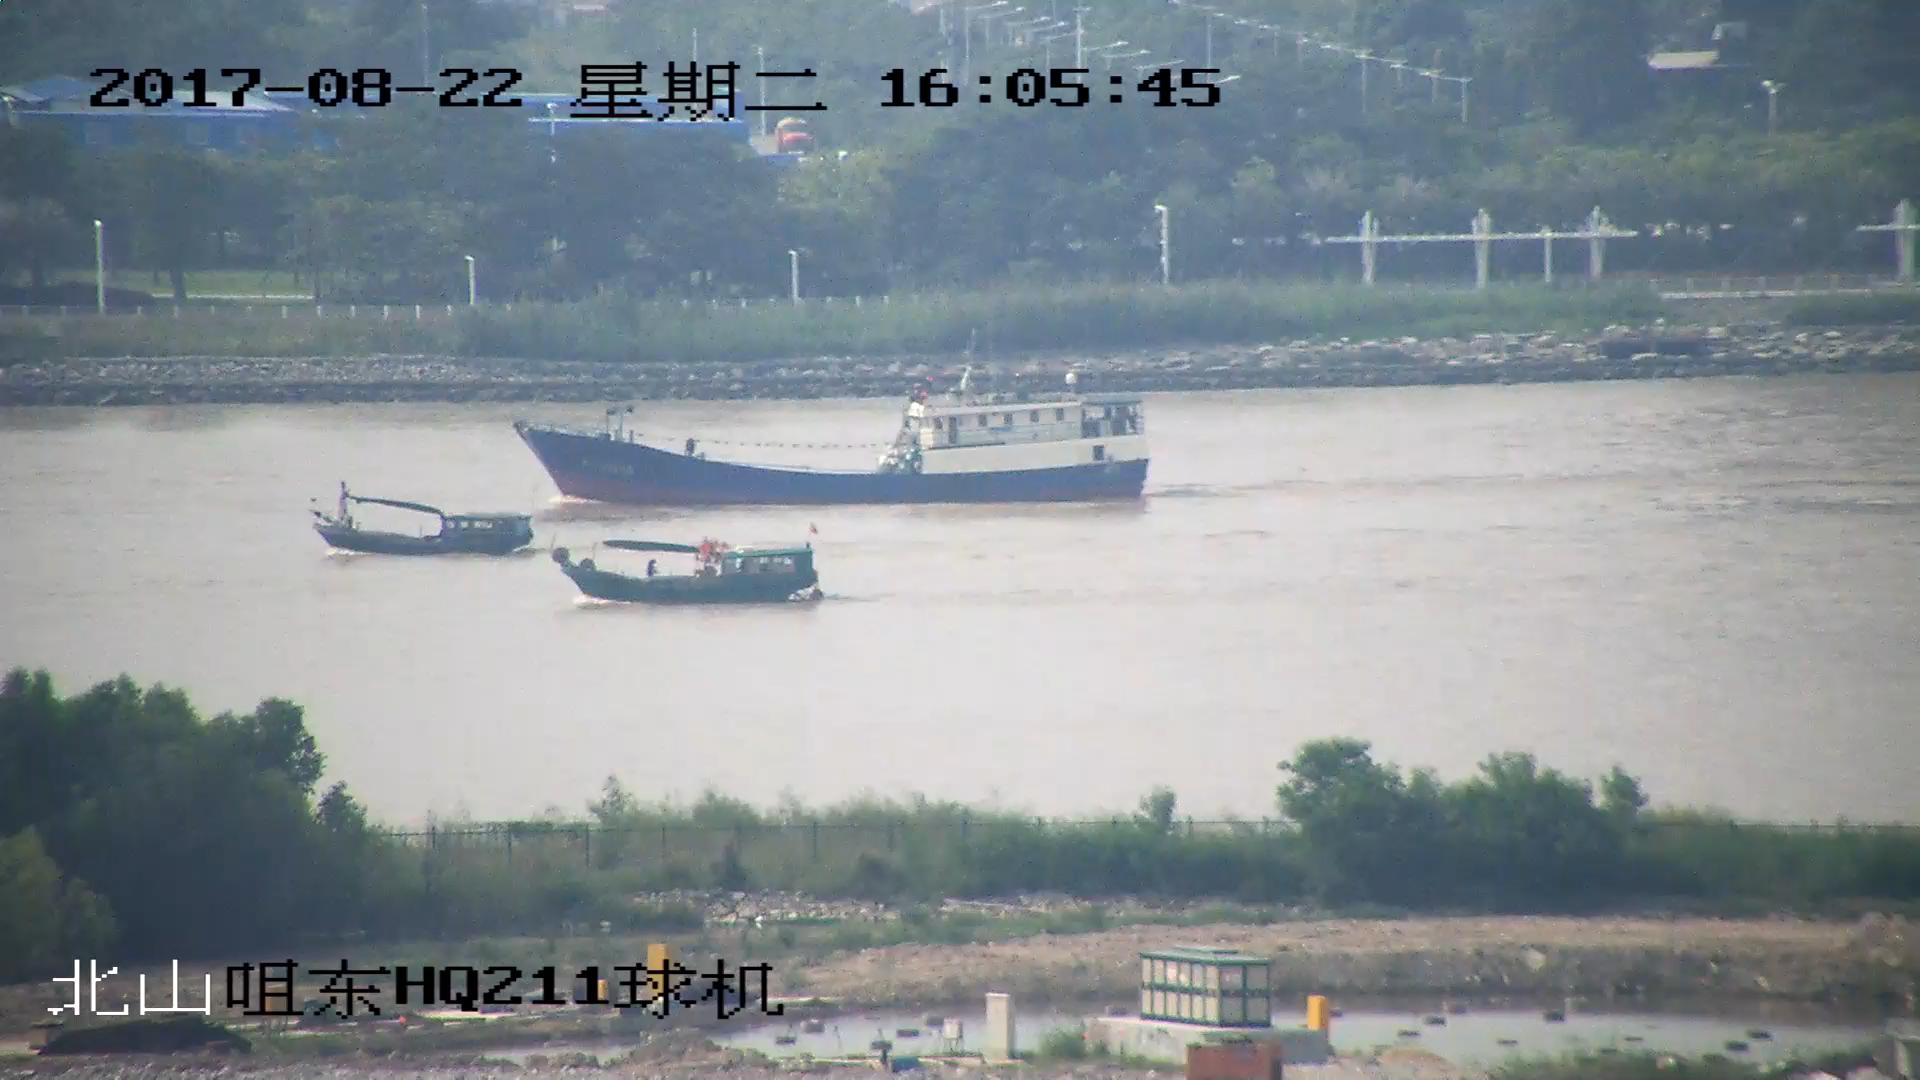fishing boat: (514, 369, 1150, 508), (551, 533, 825, 610), (308, 491, 535, 561)
